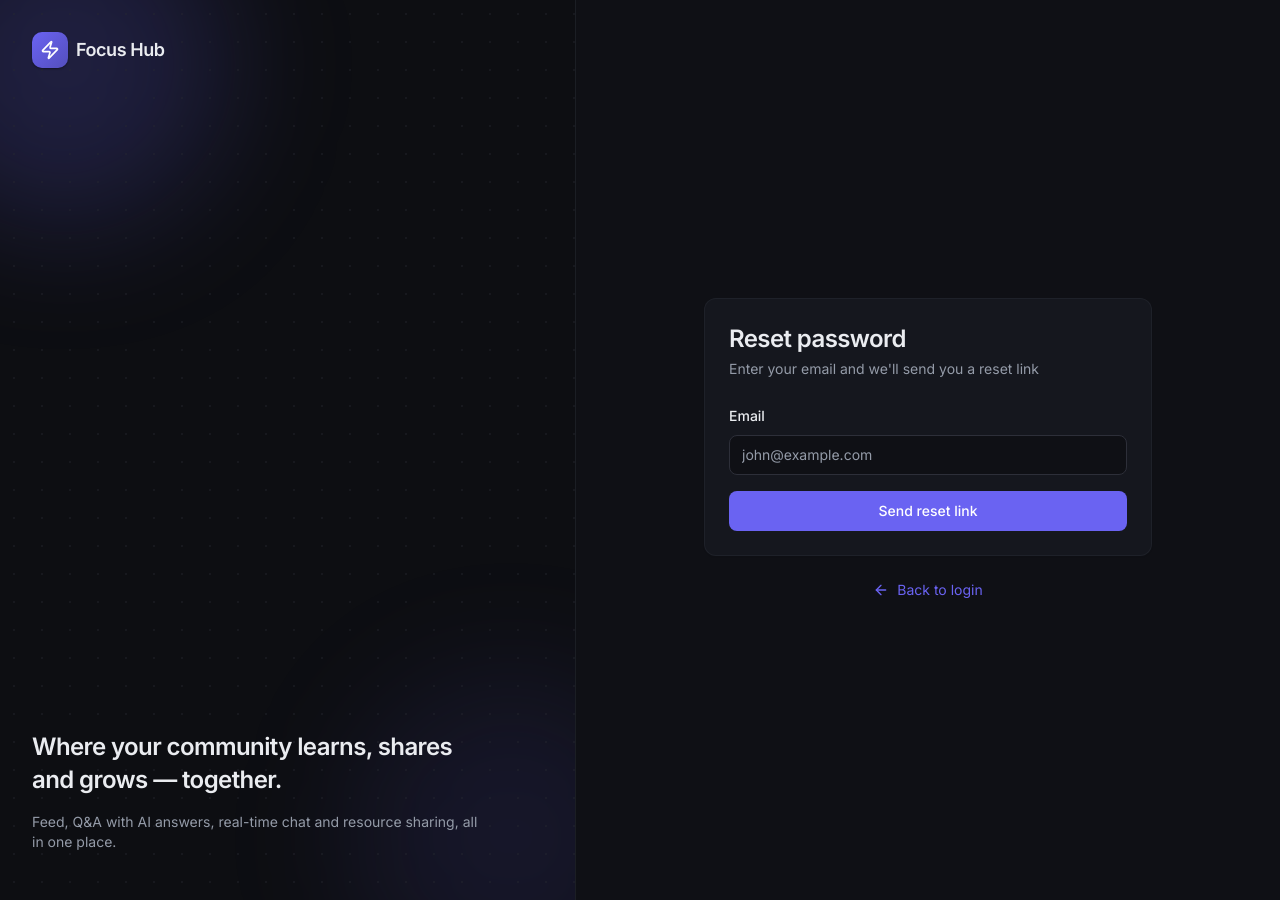
Test: ForgotPassword page › shows the Supabase error message for an email that isn't found (AUTH-RESET-01)
Step 1. Type "nobody@example.com" into the field labelled "Email" → [928, 454], box [729,434,1127,474]
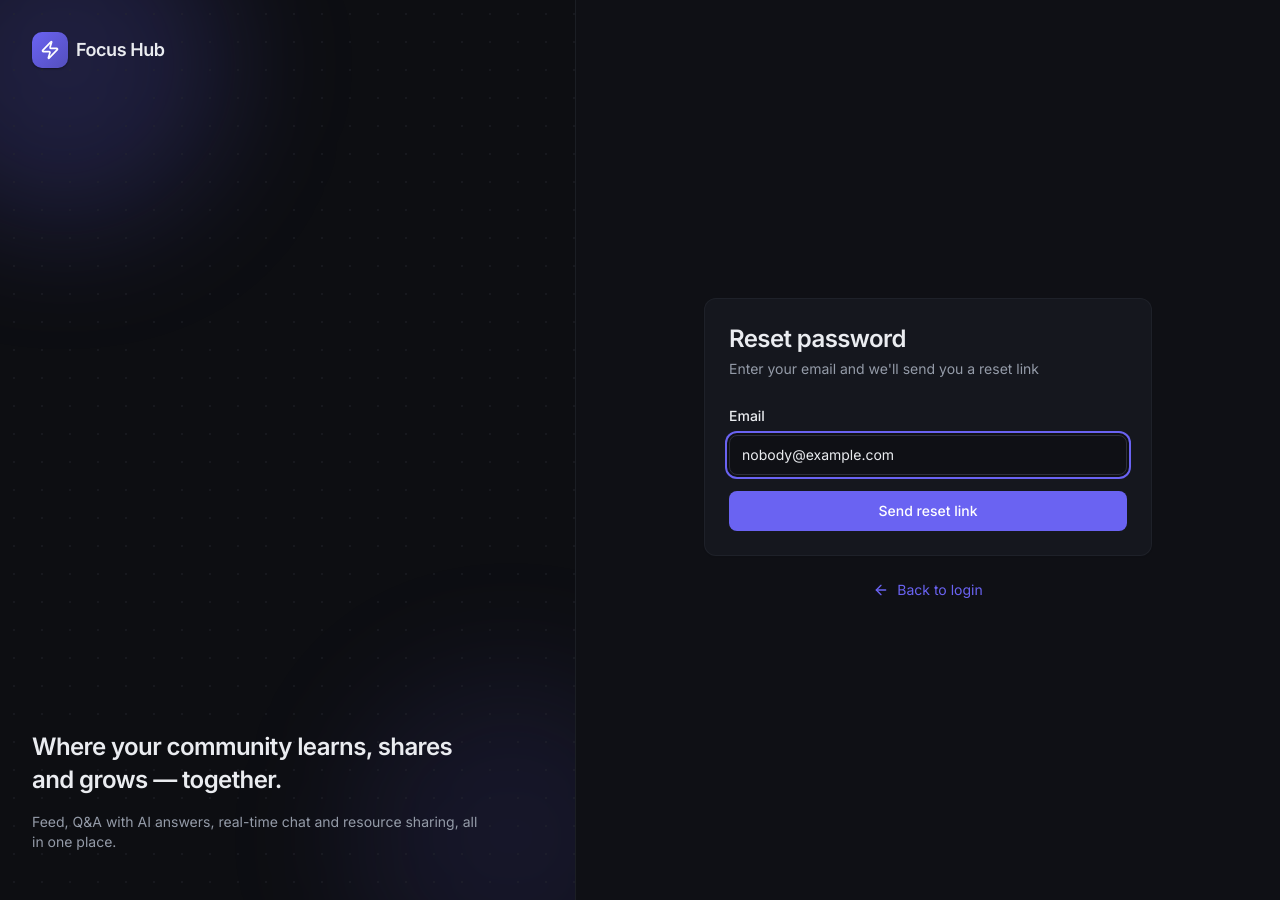
Step 2. Click the button "Send reset link" → [928, 510], box [729,490,1127,530]
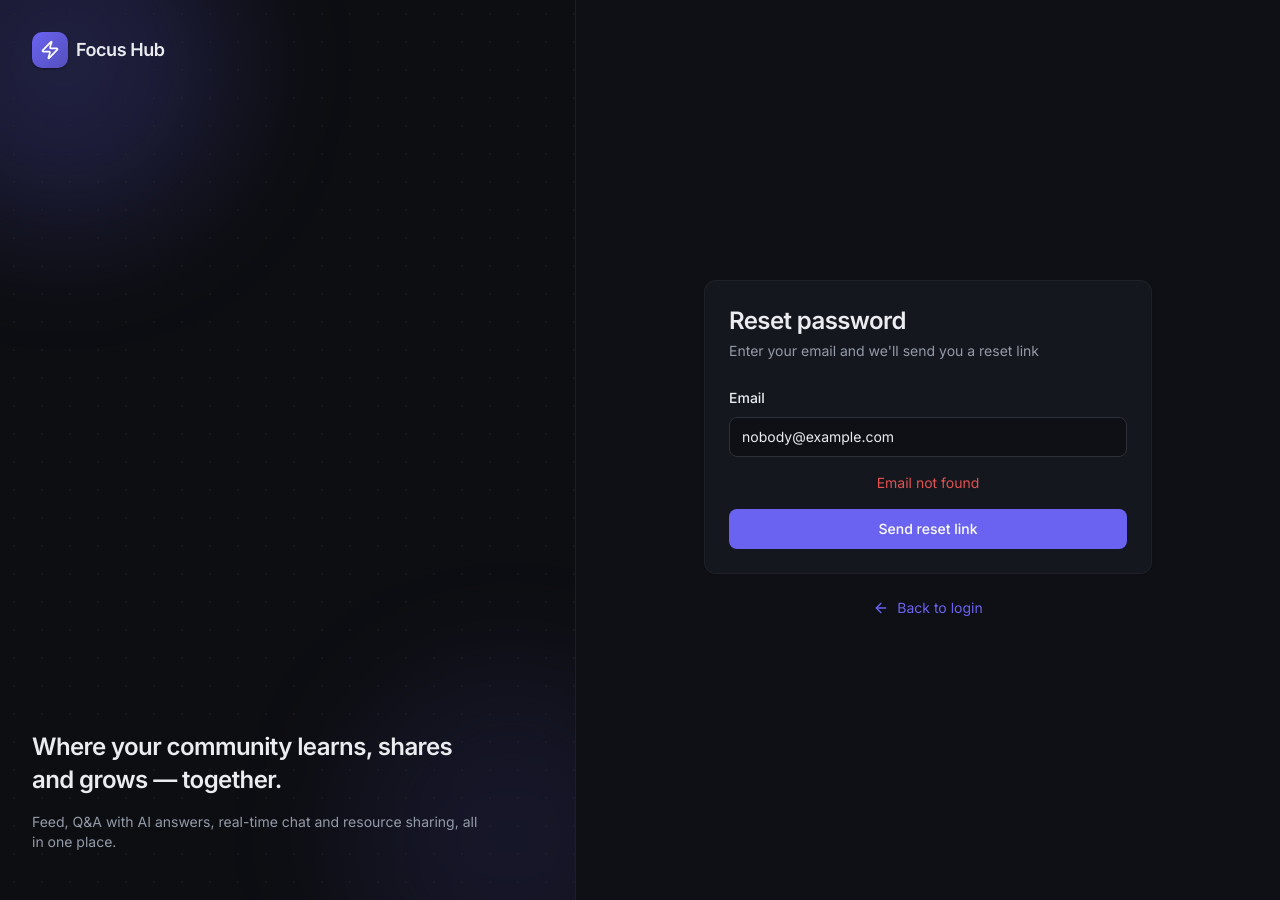
Expected: the text "Email not found" is shown, [877,474,979,490]
